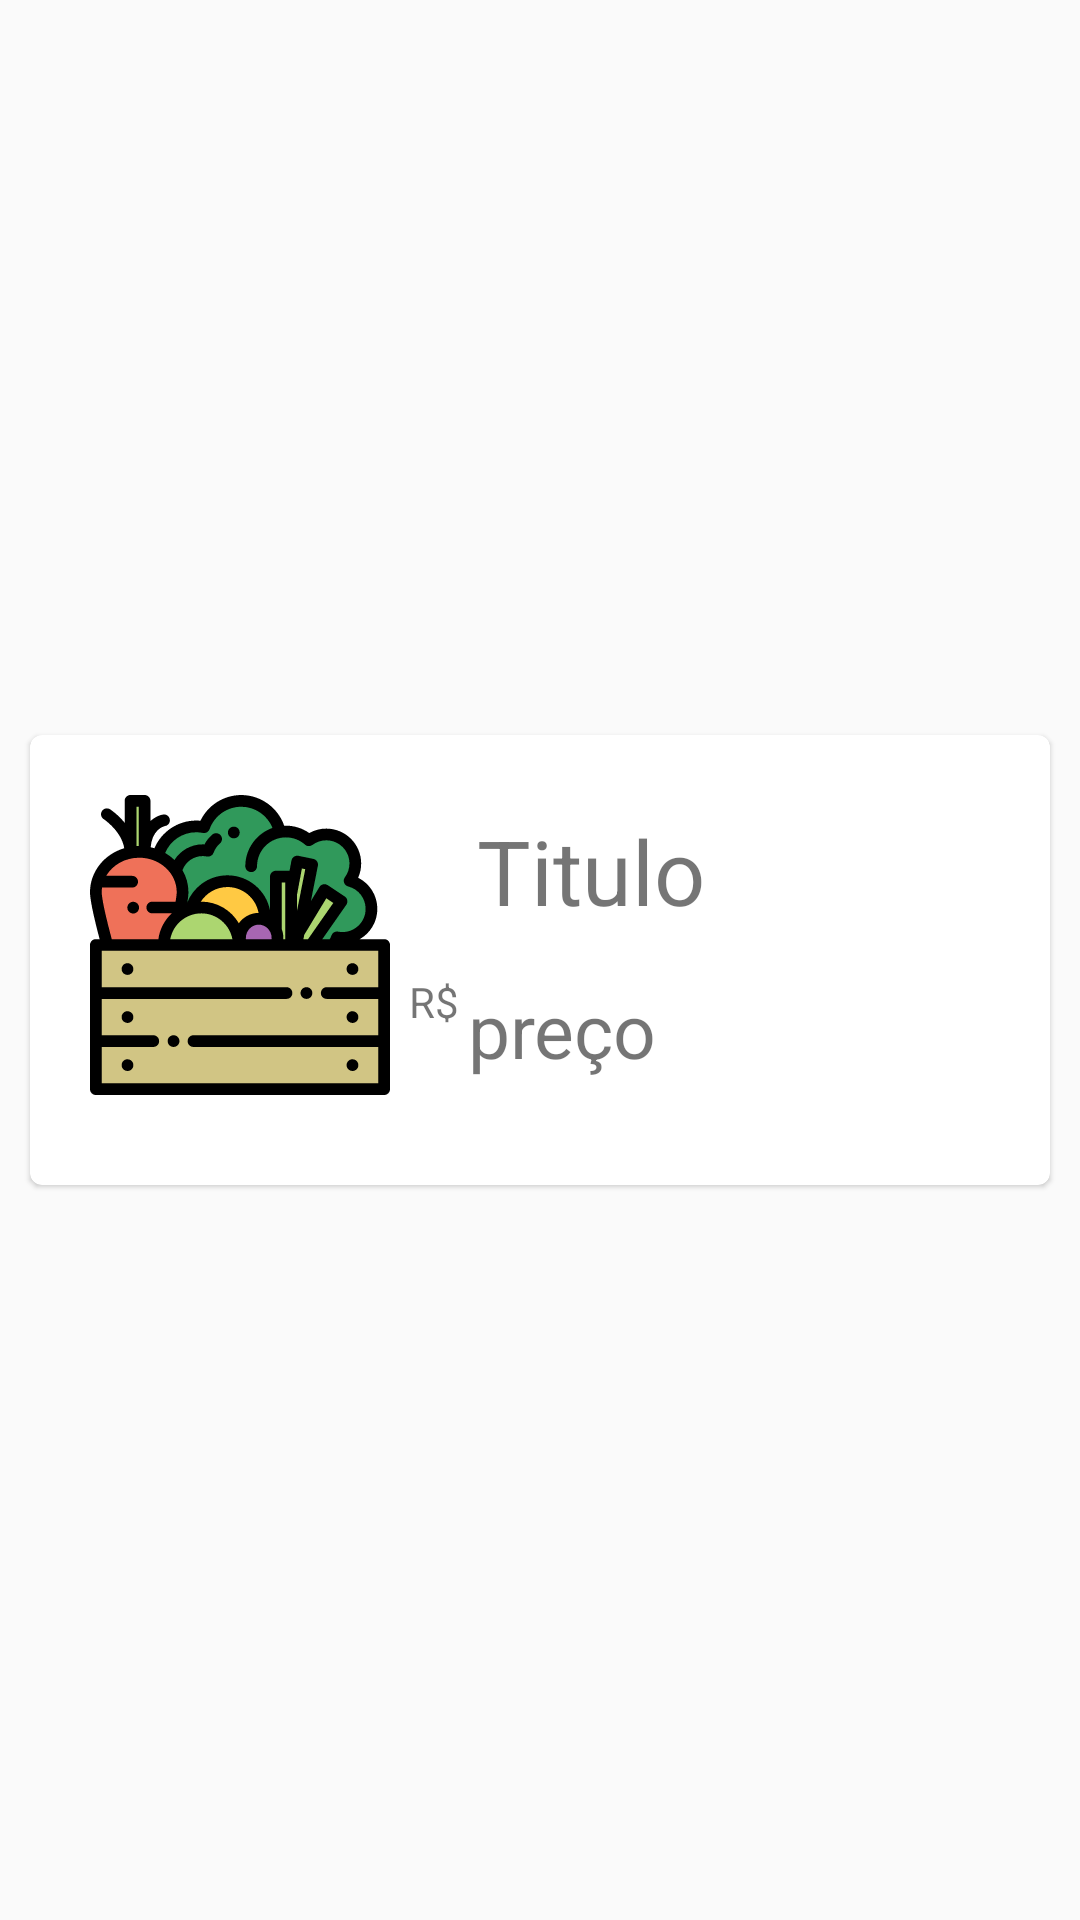

Where icons sit on this 1080px×1920px app screen, as bbox=(x1, y1, x2, y2):
vegetables: bbox=(90, 795, 390, 1095)
